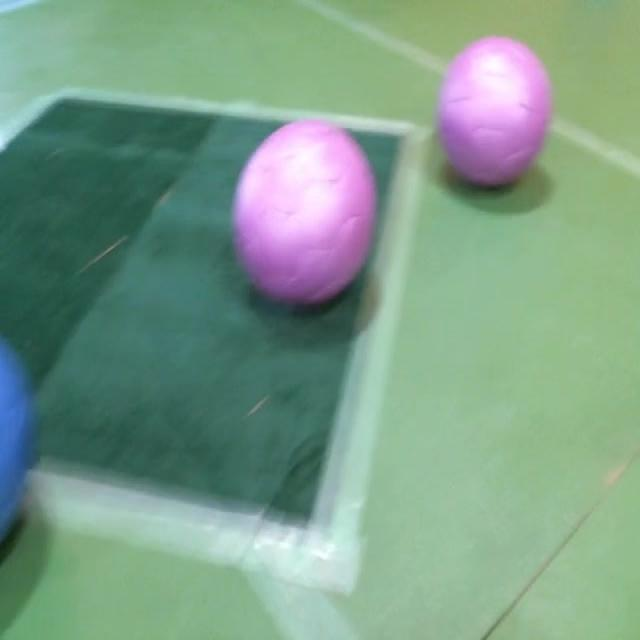blue_ball: (0, 336, 38, 563)
purple_ball: (232, 112, 375, 318), (438, 40, 554, 192)
